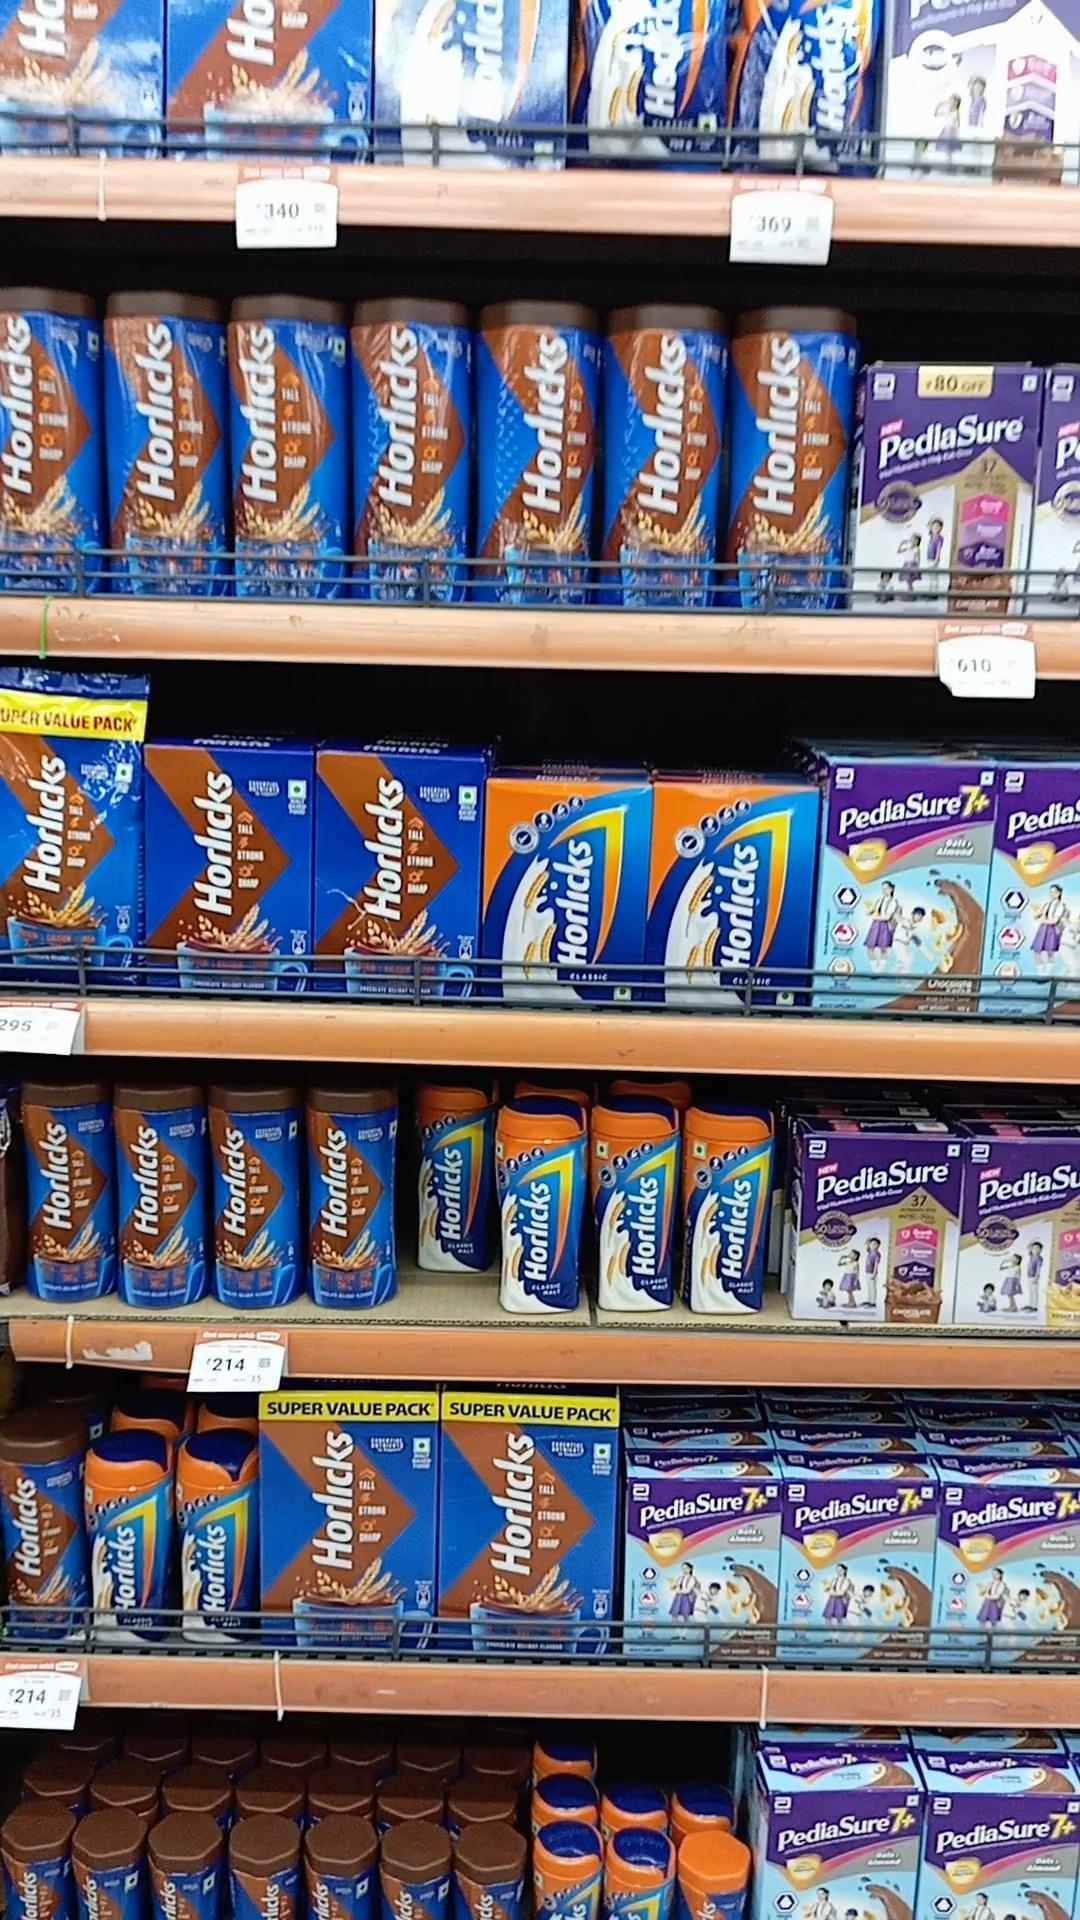HORLICK_CHOCOLATE_1_KG_JAR: (476, 293, 597, 607), (103, 286, 222, 596), (232, 297, 348, 593), (731, 309, 847, 604), (608, 305, 719, 608), (356, 299, 468, 599), (4, 286, 95, 588)
HORLICK_CHOCOLATE_1_KG_PACK: (261, 1398, 434, 1650), (444, 1391, 609, 1644)
HORLICK_CHOCOLATE_500_G_JAR: (116, 1079, 206, 1311), (306, 1084, 394, 1315), (22, 1079, 111, 1307), (215, 1080, 297, 1308), (0, 1422, 82, 1643)
HORLICK_CHOCOLATE_500_G_PACK: (150, 746, 311, 994), (319, 750, 476, 996)
HORLICK_CHOCOLATE_750_G_POUCH: (0, 661, 142, 990)
HORLICK_CLASSIC_MALT_500_G_JAR: (593, 1104, 673, 1312), (88, 1436, 169, 1640), (498, 1104, 575, 1317), (686, 1105, 764, 1312), (179, 1437, 256, 1640), (418, 1073, 488, 1275)
HORLICK_CLASSIC_MALT_500_G_PACK: (644, 773, 807, 1009), (487, 779, 637, 1006)
PEDIASURE_7_PLUS_CHOCOLATE_400_G_PACK: (824, 766, 980, 1018), (940, 1478, 1080, 1672), (626, 1478, 774, 1660), (783, 1480, 930, 1662)
PEDIASURE_CHOCOLATE_500_G_PACK: (864, 359, 1033, 616), (794, 1130, 953, 1327)
